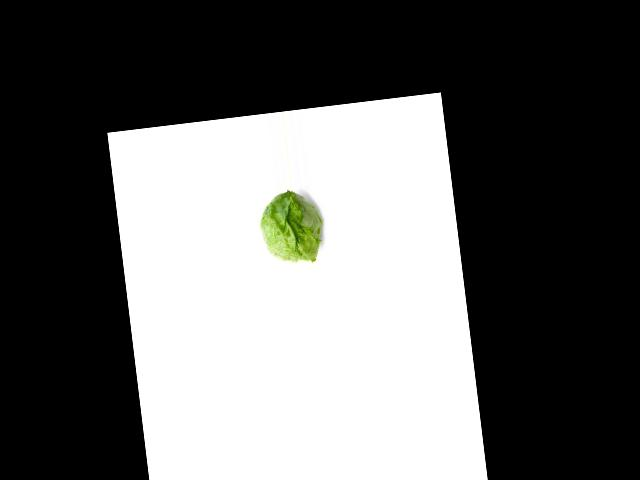lettuce: (252, 187, 330, 267)
